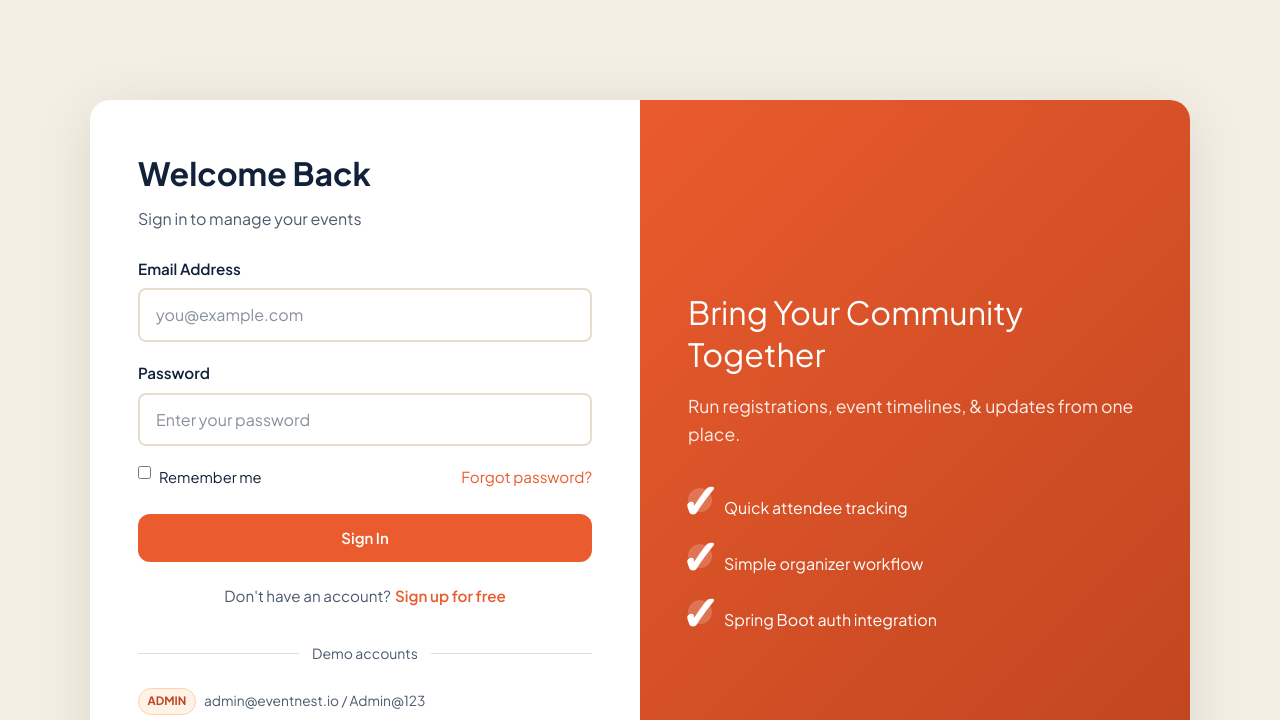
Test case: Login page › shows validation errors when form is empty
Click the button "Sign In".
click(365, 538)  # box [138, 514, 592, 562]
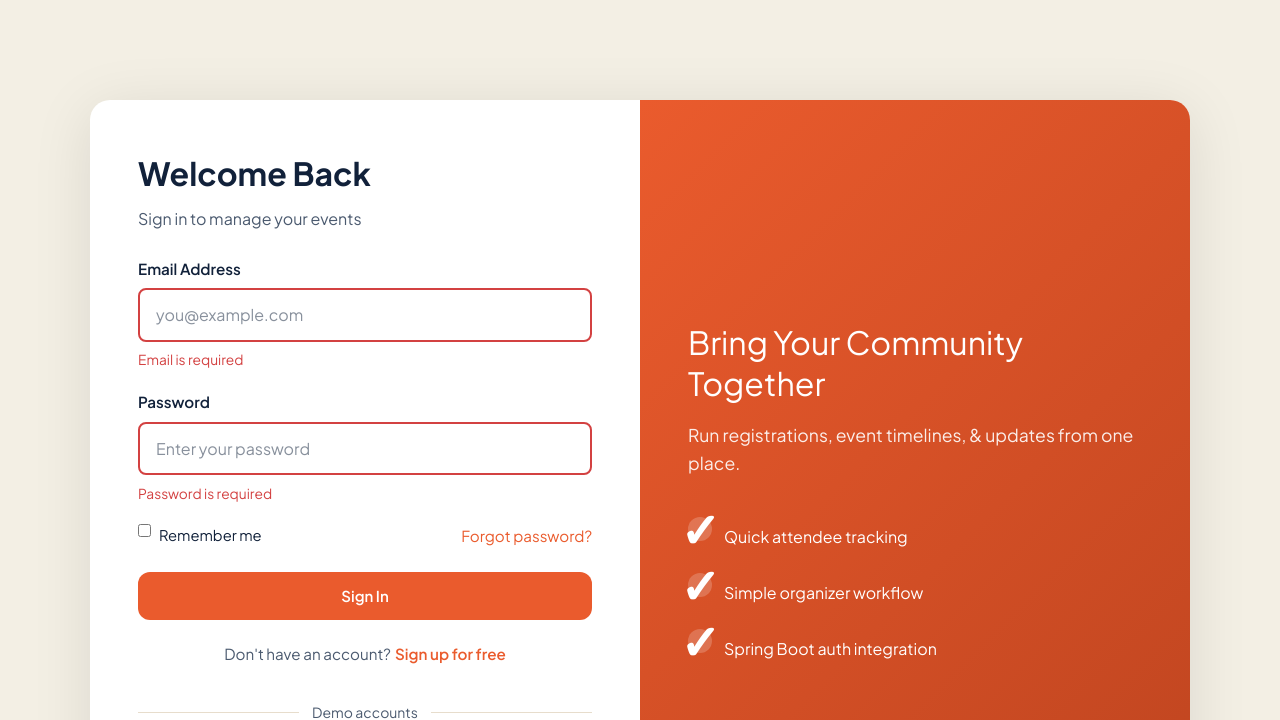
Check: the text "Email is required" is shown, box [138, 351, 244, 368]
Check: the text "Password is required" is shown, box [138, 484, 272, 502]
